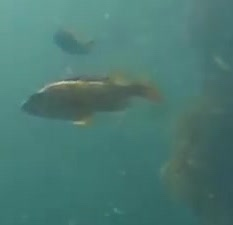smallfish: (17, 69, 176, 119)
